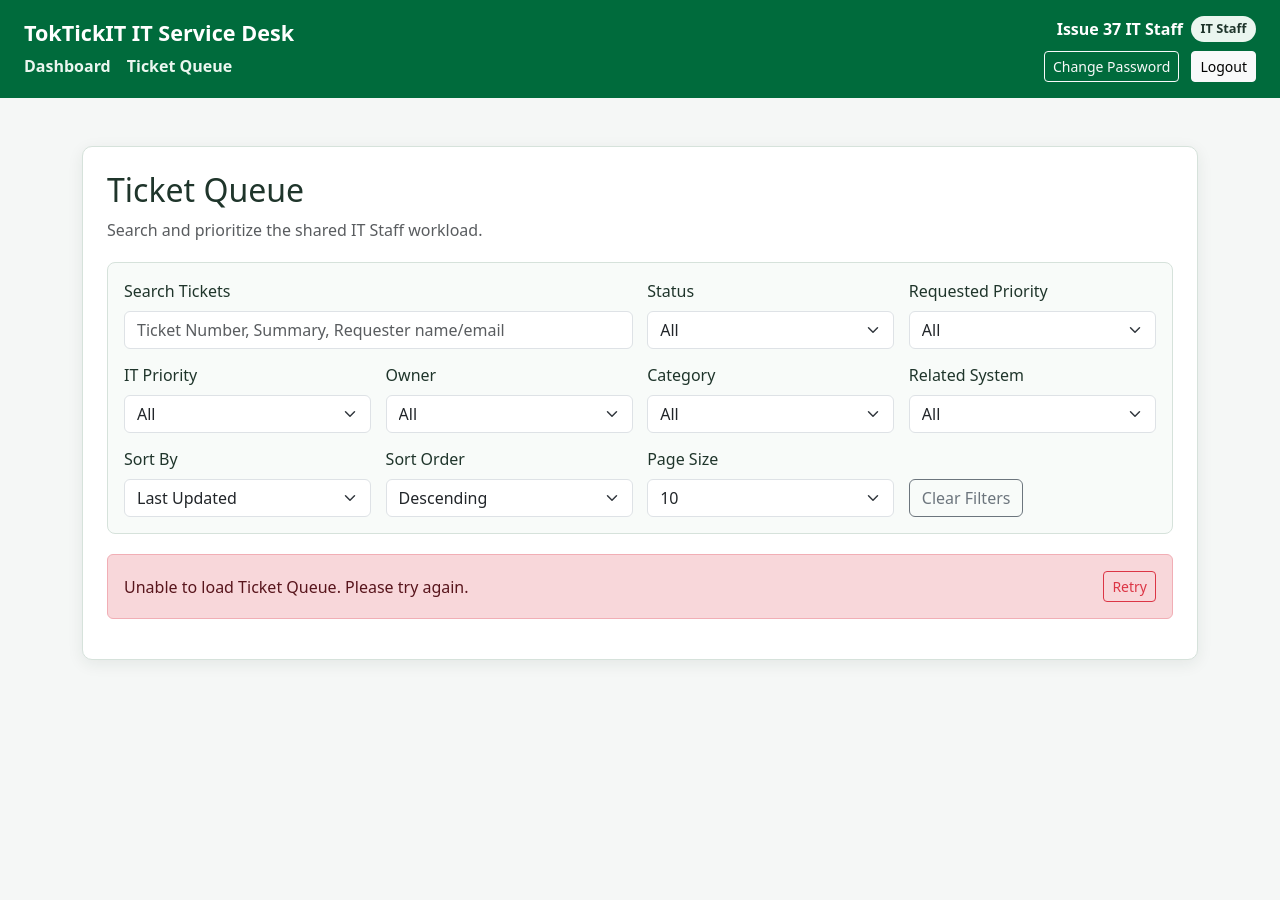
Test: Lab 3 Issue 5 IT Staff Ticket Queue UI › UI-06 shows a safe failure with Retry and recovers without exposing raw server details
Expected: the message reads "Unable to load Ticket Queue. Please try again. Retry", 124,576 -> 468,598
Click the button "Retry": (1130, 587) 1103,571 -> 1156,602
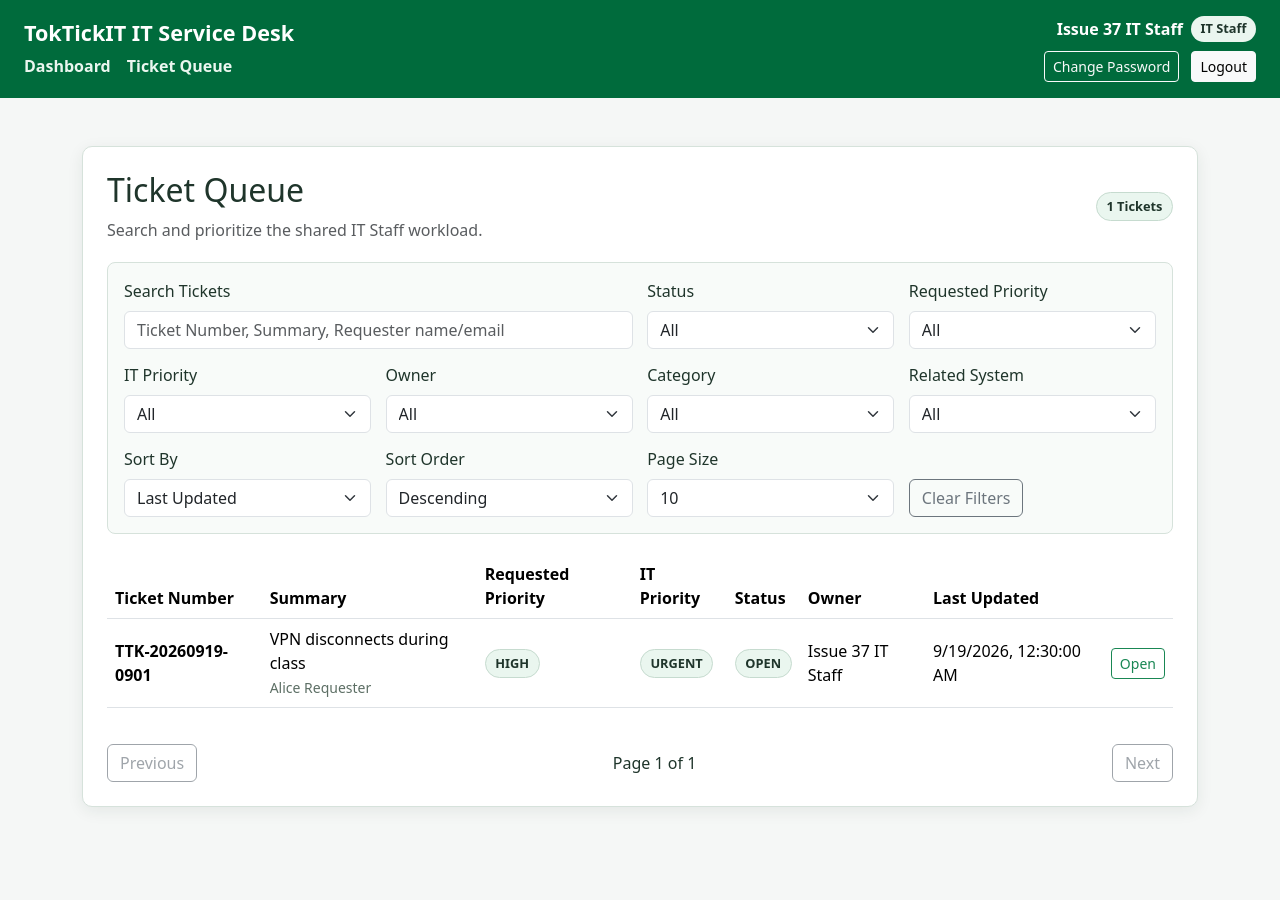
Expected: the text "TTK-20260919-0901" is shown, 115,640 -> 228,686
